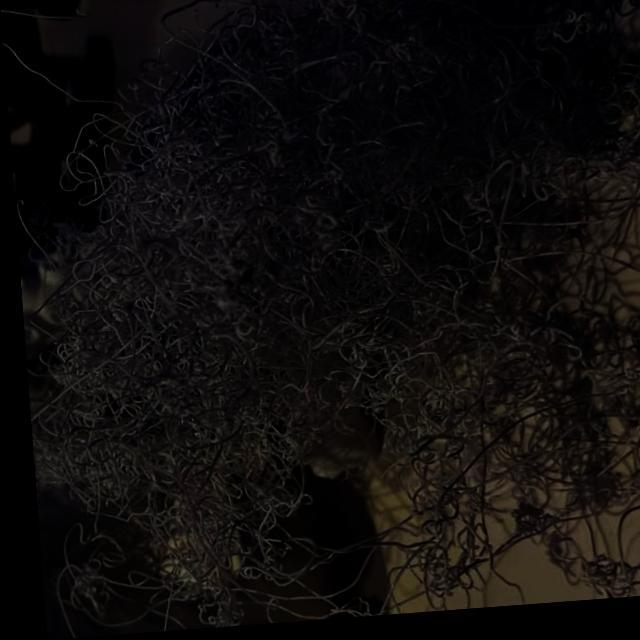spaghetti: (199, 1, 458, 268), (401, 247, 640, 459), (433, 43, 640, 243), (139, 456, 308, 623), (199, 289, 381, 443), (507, 459, 630, 614), (61, 261, 191, 405), (81, 119, 206, 264), (398, 455, 509, 593), (44, 400, 158, 513), (53, 544, 143, 618)
